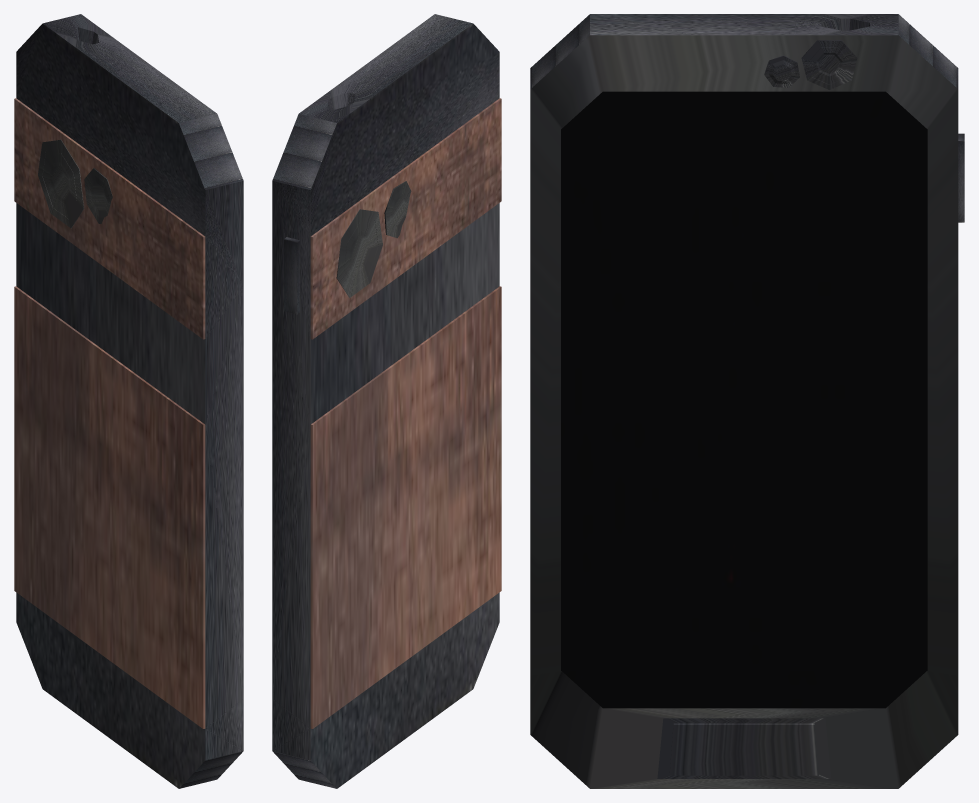
File: phone.FBX
3 views of the same model, side by side, from view 1: azimuth 30°, elevation 25°; view 2: azimuth 150°, elevation 25°; view 3: azimuth 270°, elevation 25° (orthographic). The views are drawn at different scales.
Parts seen in each view (by area): view 1: Box001, Object003, Cylinder003, Cylinder004; view 2: Box001, Object003, Cylinder003, Box002, Cylinder004; view 3: Object002, Object001, Box001, Cylinder001, Cylinder002.
Part boxes in pixels (bbox=[...]): Box001: bbox=[16, 14, 243, 788]; Object003: bbox=[14, 98, 205, 728]; Cylinder003: bbox=[38, 139, 84, 228]; Cylinder004: bbox=[84, 168, 112, 223]; Box001: bbox=[272, 14, 499, 788]; Object003: bbox=[310, 98, 501, 728]; Cylinder003: bbox=[336, 209, 382, 297]; Box002: bbox=[284, 237, 299, 314]; Cylinder004: bbox=[384, 181, 411, 238]; Object002: bbox=[561, 91, 927, 708]; Object001: bbox=[530, 35, 958, 788]; Box001: bbox=[530, 14, 958, 778]; Cylinder001: bbox=[801, 40, 857, 89]; Cylinder002: bbox=[764, 55, 799, 87].
Size of the model in its own units: 22.27 by 316 by 165.
4 materials, 4 textured.
